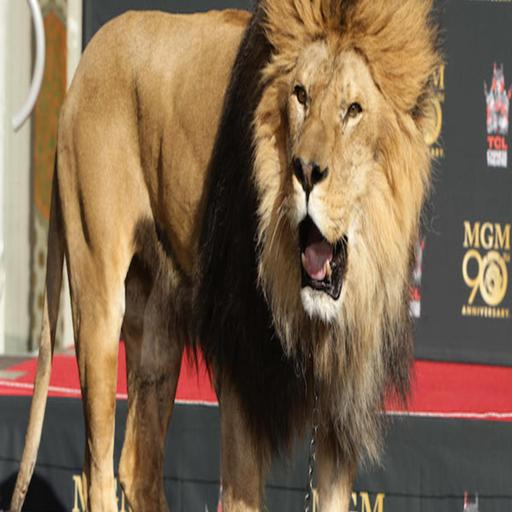Lion: (8, 0, 443, 512)
